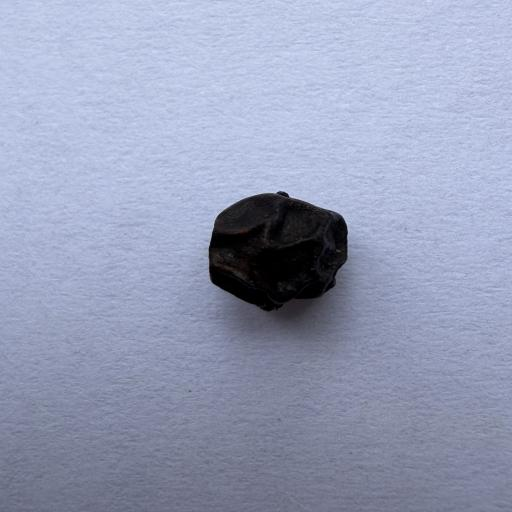Black_pepper: (181, 186, 378, 320)
